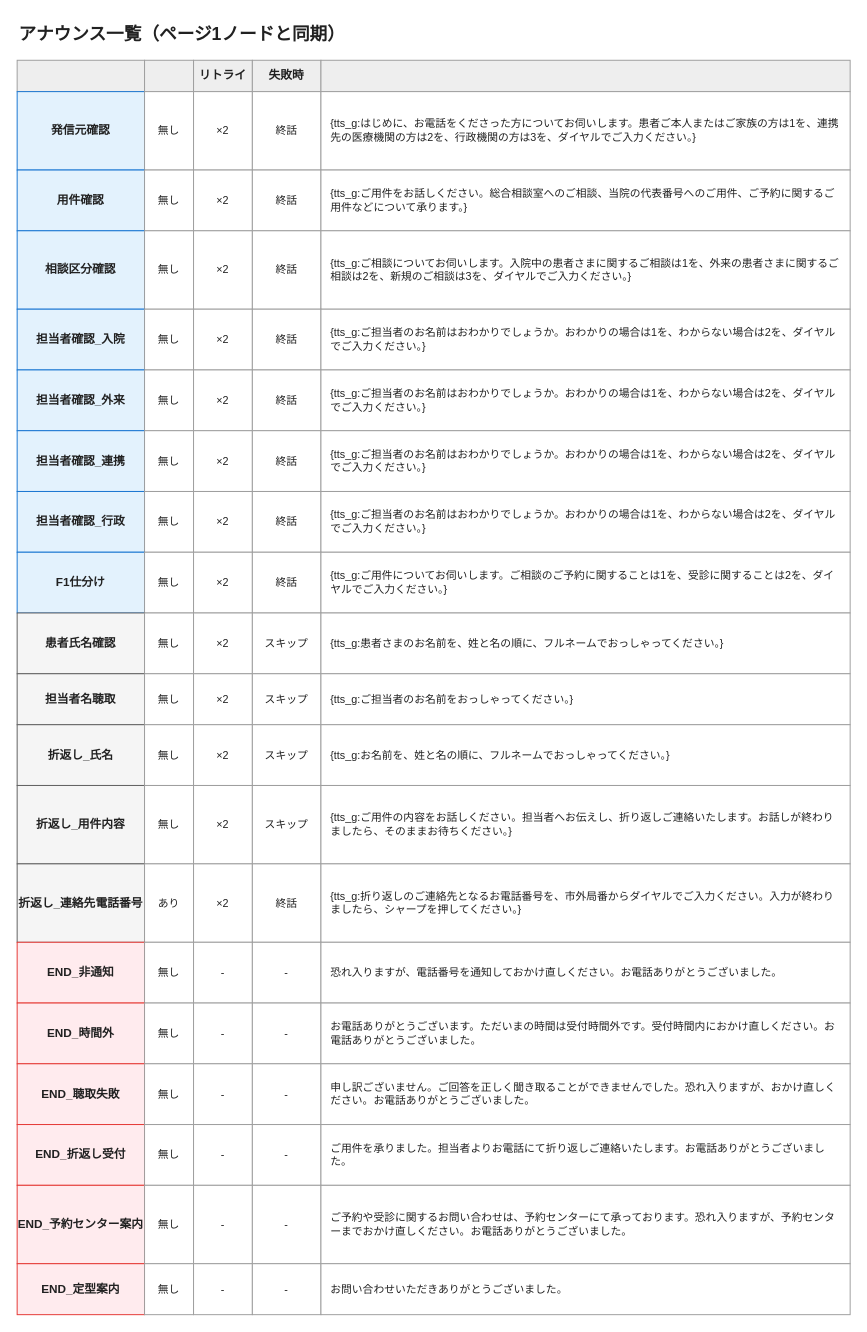
The diagram is 867 pixels wide and 1332 high, and some of its shapes have lost their labels. Here are the shapes that lost their labels. From the top down, the centre of each, then its label:
At (x=80, y=75): "聴取項目".
At (x=169, y=75): "復唱".
At (x=585, y=75): "発話文言".
